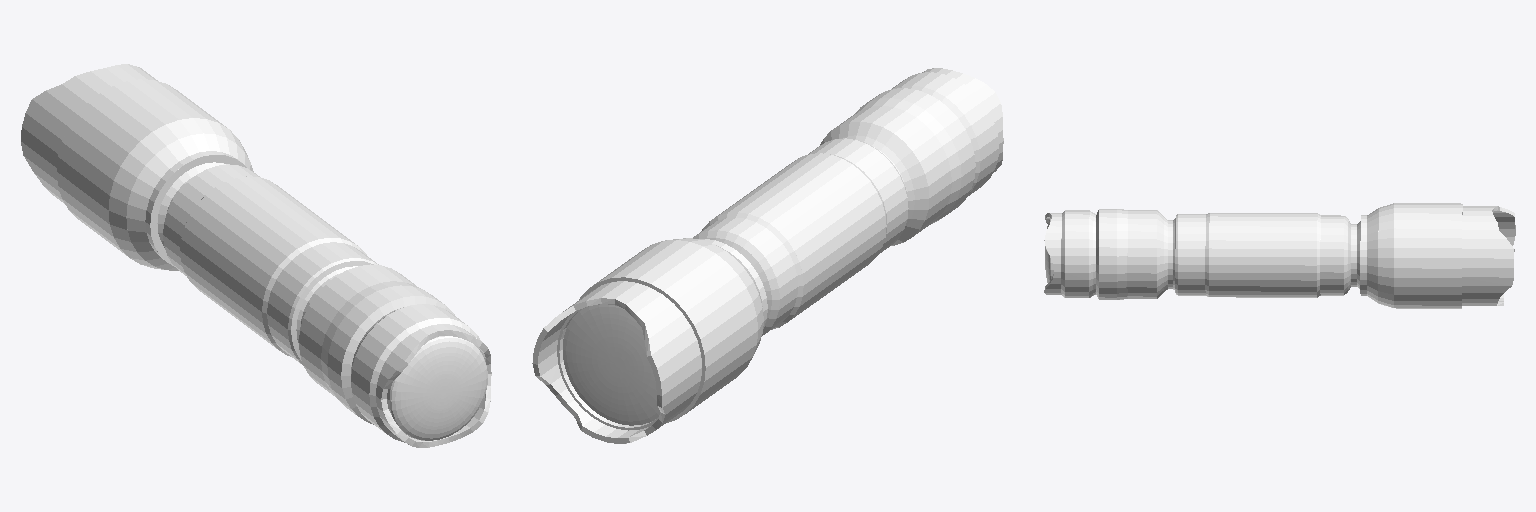
robot.urdf — flashlight:
<?xml version="1.0" ?>
<robot name="flashlight">
  <link name="base">
      <inertial>
          <origin rpy="0 0 0" xyz="0 0 0"/>
          <mass value="1.0"/>
          <inertia ixx="1" ixy="0" ixz="0" iyy="1" iyz="0" izz="1"/>
      </inertial>
   <visual>
     <origin rpy="0 0 0" xyz="0 0 0"/>
     <geometry>
       <mesh filename="flashlight.obj" scale="1 1 1"/>
     </geometry>
      <material name="white">
       <color rgba="1 1 1 1"/>
     </material>
   </visual>
   <collision>
     <origin rpy="0 0 0" xyz="0 0 0"/>
     <geometry>
       <mesh filename="flashlight_vhacd.obj" scale="1 1 1"/>
     </geometry>
   </collision>
  </link>
  <link name="grasp">
    <inertial>
      <origin rpy="0 0 0" xyz="0 0 0"/>
       <mass value="0.0"/>
       <inertia ixx="1" ixy="0" ixz="0" iyy="1" iyz="0" izz="1"/>
    </inertial>
  </link>
  <joint name="base__grasp" type="fixed">
    <origin xyz="0.0 0.0 0.0" rpy="0.0 0.0 0.0"/>
    <parent link="base"/>
    <child link="grasp"/>
  </joint>
</robot>

--- Facts derived from the render (not from the file) ---
Views: 3 orthographic renders of the robot side by side, from view 1: azimuth 30°, elevation 25°; view 2: azimuth 150°, elevation 25°; view 3: azimuth 270°, elevation 25°.
Robot: flashlight — 2 links, 1 joints (1 fixed); root link base; default pose: every joint at zero.
Links seen in each view (by area): view 1: base; view 2: base; view 3: base.
Link boxes in pixels (<box>): base: <box>21,64,491,447</box>; base: <box>532,68,1003,443</box>; base: <box>1044,203,1515,308</box>.
Size in the robot's own frame: 0.0603 by 0.2674 by 0.0598 metres.
1 mesh visuals loaded from 1 distinct referenced files (1 OBJ).